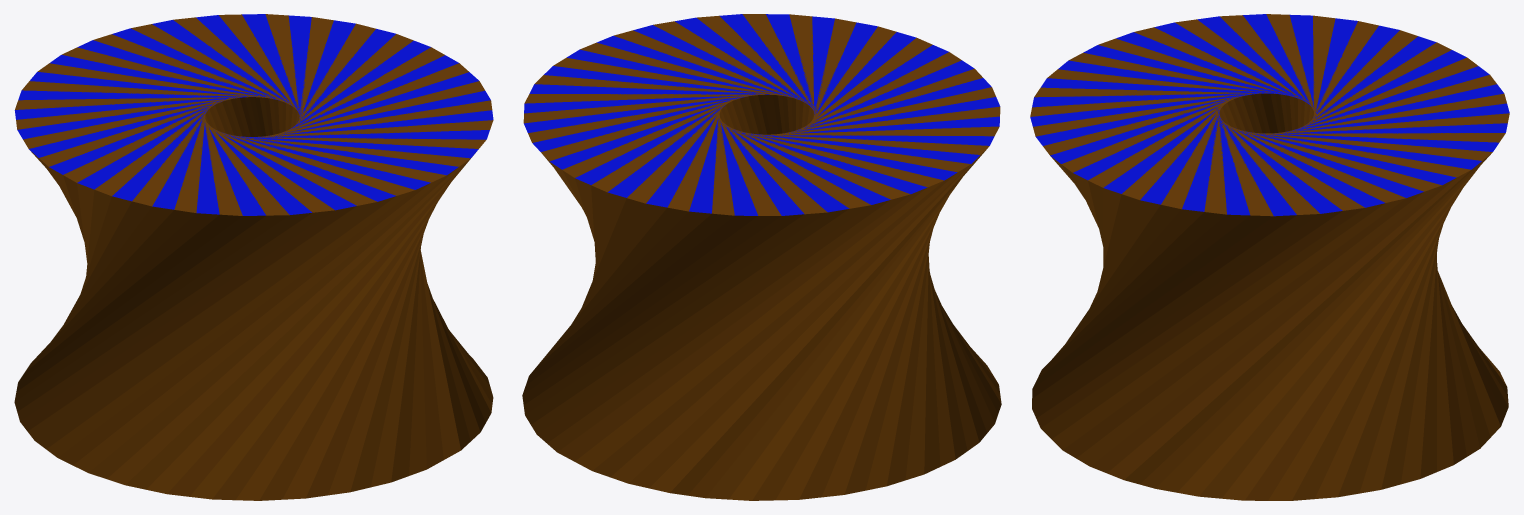
File: keyslot.fbx
3 renders of one model, left to right at view 1: azimuth 30°, elevation 25°; view 2: azimuth 150°, elevation 25°; view 3: azimuth 270°, elevation 25°, orthographic.
Parts seen in each view (by area): view 1: Cylinder; view 2: Cylinder; view 3: Cylinder.
Part boxes in pixels (x1,y1,x2,y2): Cylinder: (14,14,493,500); Cylinder: (522,14,1001,500); Cylinder: (1030,14,1509,500).
Bounding box in the file's own units: 461 × 303 × 462.
